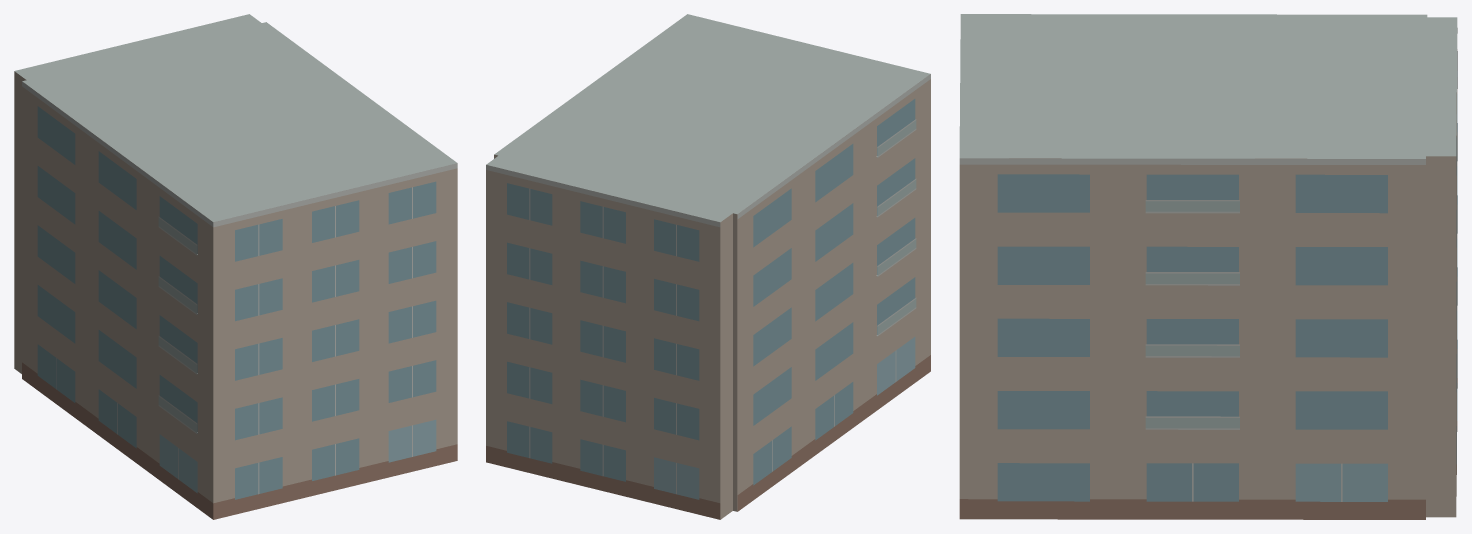
File: survey-upis-32742593.glb
The picture shows the model from 3 angles, left to right: view 1: azimuth 30°, elevation 25°; view 2: azimuth 150°, elevation 25°; view 3: azimuth 270°, elevation 25°; orthographic projection. The views are drawn at different scales.
Parts seen in each view (by area): view 1: survey-upis-32742593.tmp; view 2: survey-upis-32742593.tmp; view 3: survey-upis-32742593.tmp.
Part boxes in pixels (x1,y1,x2,y2): survey-upis-32742593.tmp: (14, 14, 457, 519); survey-upis-32742593.tmp: (486, 14, 930, 519); survey-upis-32742593.tmp: (959, 14, 1457, 519).
Bounding box in the file's own units: 12.28 × 14.2 × 17.76.
